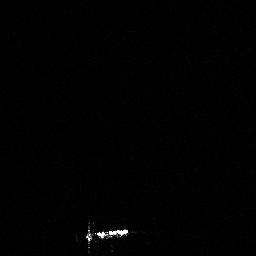ship: (80, 217, 132, 251)
